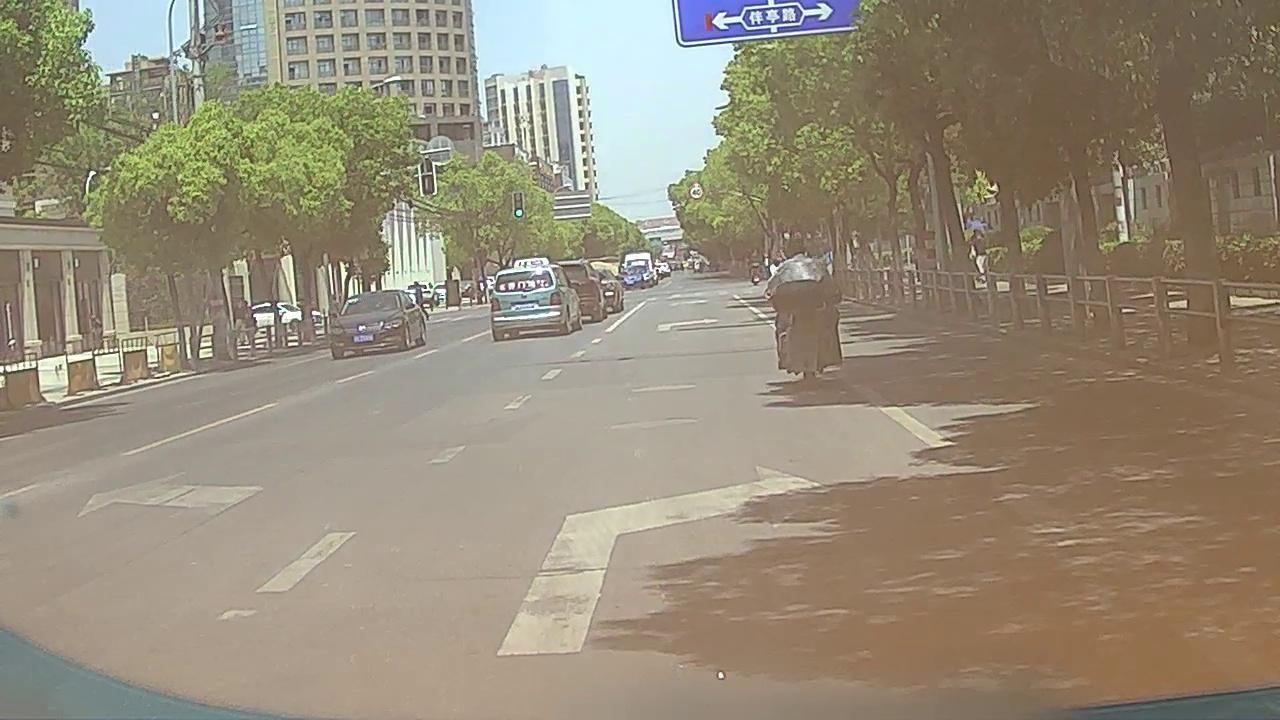traffic_light: (514, 193, 522, 218)
